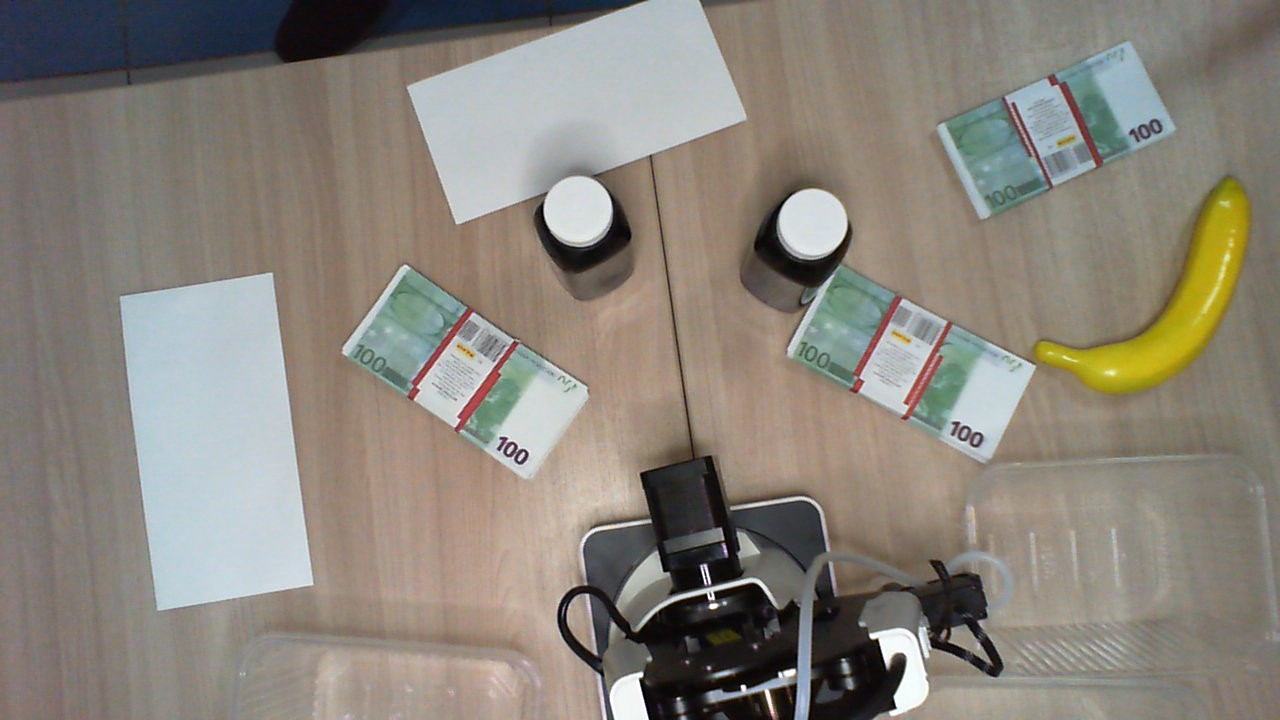banana: (1034, 174, 1251, 397)
bottle: (748, 186, 861, 283), (533, 177, 632, 274)
convert: (404, 1, 747, 226), (120, 267, 320, 616)
money: (336, 265, 595, 479), (789, 265, 1039, 459), (933, 40, 1173, 217)
